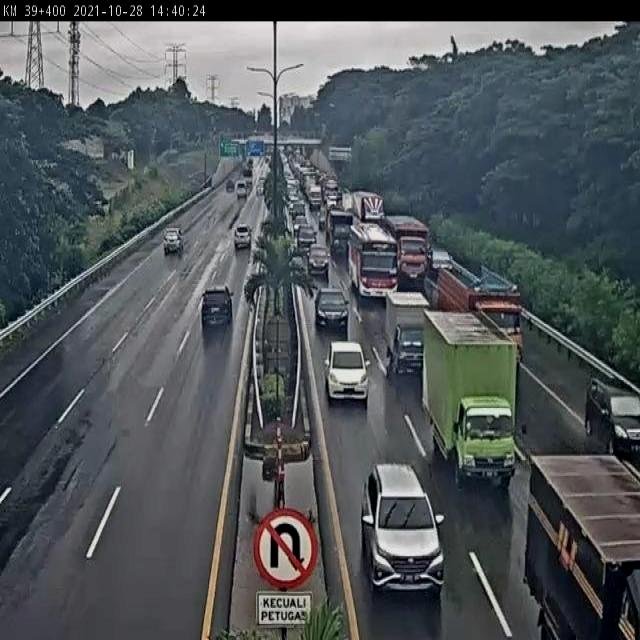Car: (584, 378, 640, 464), (201, 284, 234, 331), (307, 244, 330, 278), (163, 228, 184, 255), (297, 224, 317, 252)
Truck: (412, 297, 540, 490), (523, 455, 640, 640), (360, 462, 445, 594), (428, 263, 522, 367), (256, 450, 318, 535), (347, 220, 398, 302), (383, 291, 430, 379), (384, 217, 431, 293), (323, 338, 369, 404), (426, 266, 474, 317), (342, 191, 382, 245), (314, 286, 350, 332), (261, 418, 303, 448), (328, 207, 353, 257), (308, 148, 332, 176), (321, 176, 340, 208), (289, 254, 308, 282), (430, 248, 452, 272), (590, 379, 610, 404), (303, 176, 319, 207), (262, 452, 279, 481), (536, 612, 552, 640), (251, 260, 268, 286), (234, 225, 252, 249), (64, 139, 88, 157), (328, 146, 352, 163), (291, 212, 307, 237), (290, 200, 306, 224), (250, 280, 262, 310), (94, 198, 111, 217), (318, 172, 332, 195), (286, 189, 300, 211), (283, 212, 294, 240), (230, 138, 248, 154), (35, 158, 59, 170), (299, 158, 312, 180), (262, 171, 273, 194), (235, 180, 248, 198), (261, 157, 272, 178), (264, 142, 280, 156), (247, 153, 258, 171), (243, 160, 253, 178), (127, 149, 135, 171), (264, 193, 272, 214), (254, 337, 262, 358), (202, 175, 213, 190), (209, 180, 221, 193), (342, 189, 351, 205), (90, 152, 106, 161), (320, 122, 328, 140), (200, 291, 208, 308), (318, 213, 326, 230), (257, 179, 265, 195), (472, 282, 484, 292), (278, 137, 291, 146), (163, 240, 171, 254), (253, 128, 262, 140), (386, 345, 392, 363), (225, 284, 232, 299), (226, 179, 234, 192), (111, 151, 121, 161), (294, 148, 302, 160), (261, 147, 268, 160), (614, 24, 627, 31), (509, 284, 518, 294), (229, 217, 236, 229), (265, 156, 271, 168)
